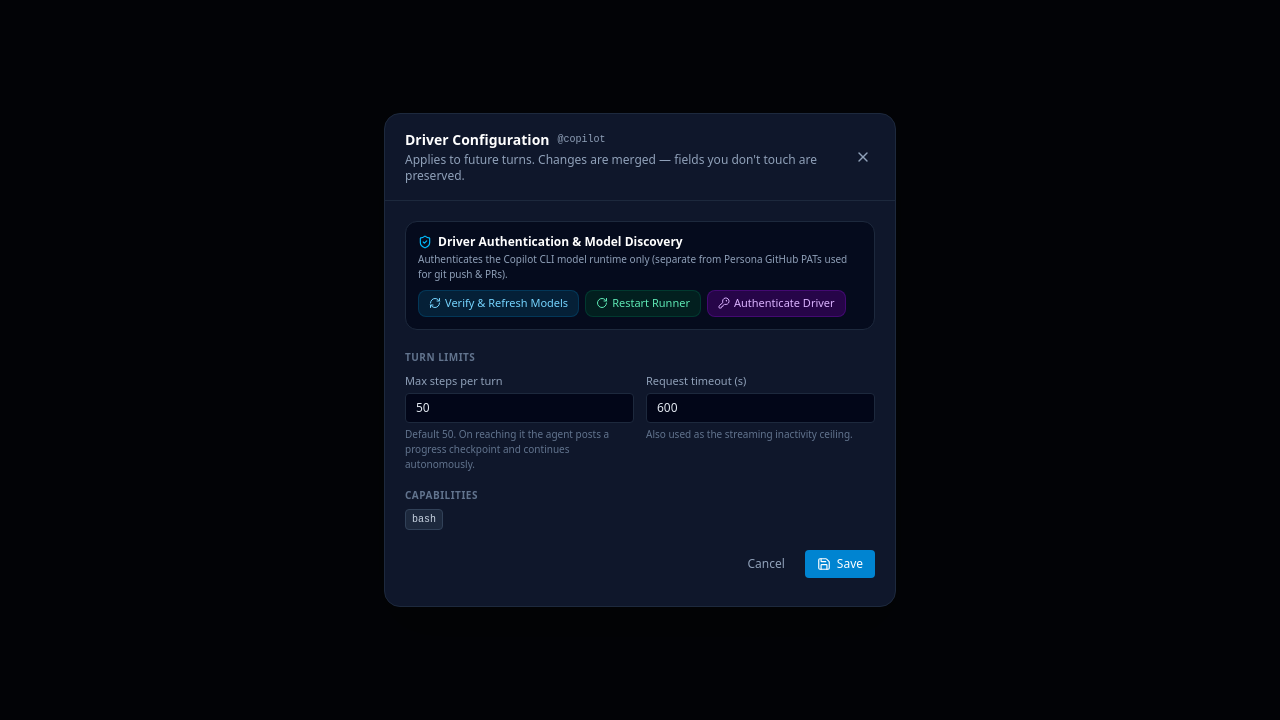
DriverConfigModal › renders one-time device code and allows completion without typing auth code for device flow
The image size is (1280, 720).
Step 1. Click the button "Authenticate Driver" → (776, 303), box top-left (707, 290), bottom-right (846, 316)
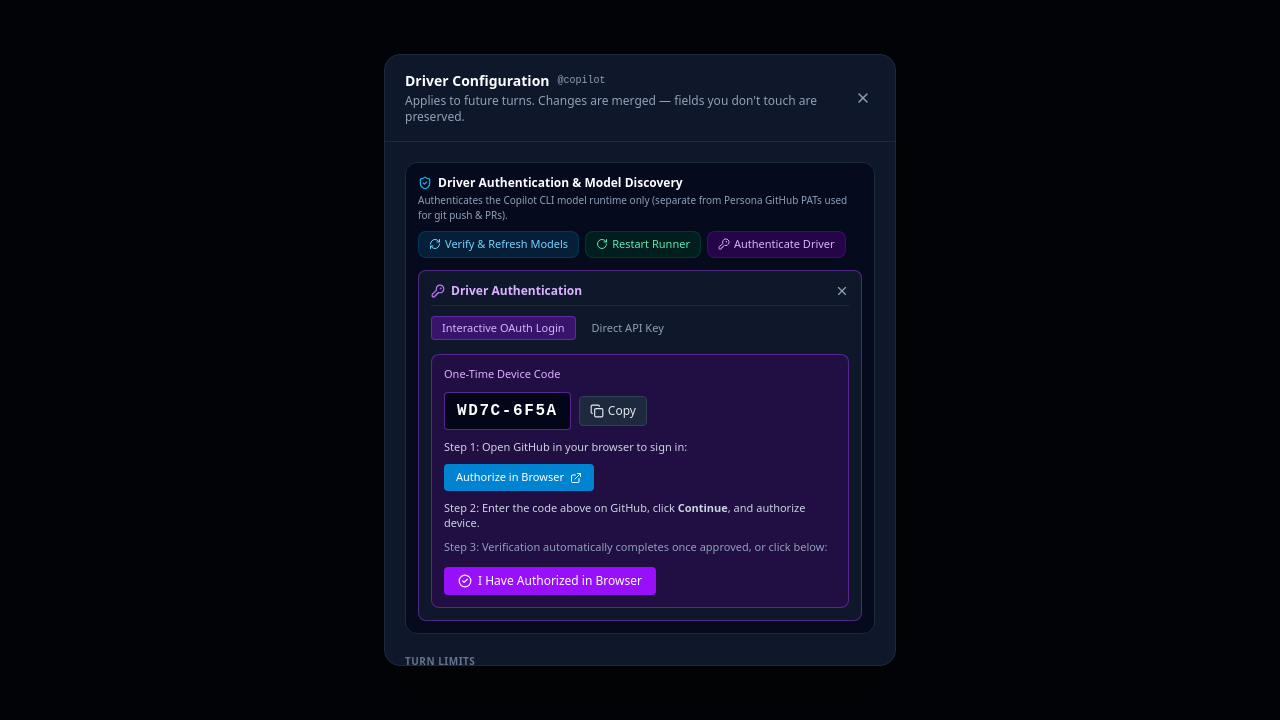
Now the text "One-Time Device Code" is shown, box top-left (444, 367), bottom-right (560, 382)
Now the text with test id "device-user-code" reads "WD7C-6F5A", box top-left (457, 402), bottom-right (558, 420)
Now the button "I Have Authorized in Browser" is shown
Step 2. Click the button "I Have Authorized in Browser" → (550, 581), box top-left (444, 567), bottom-right (656, 595)
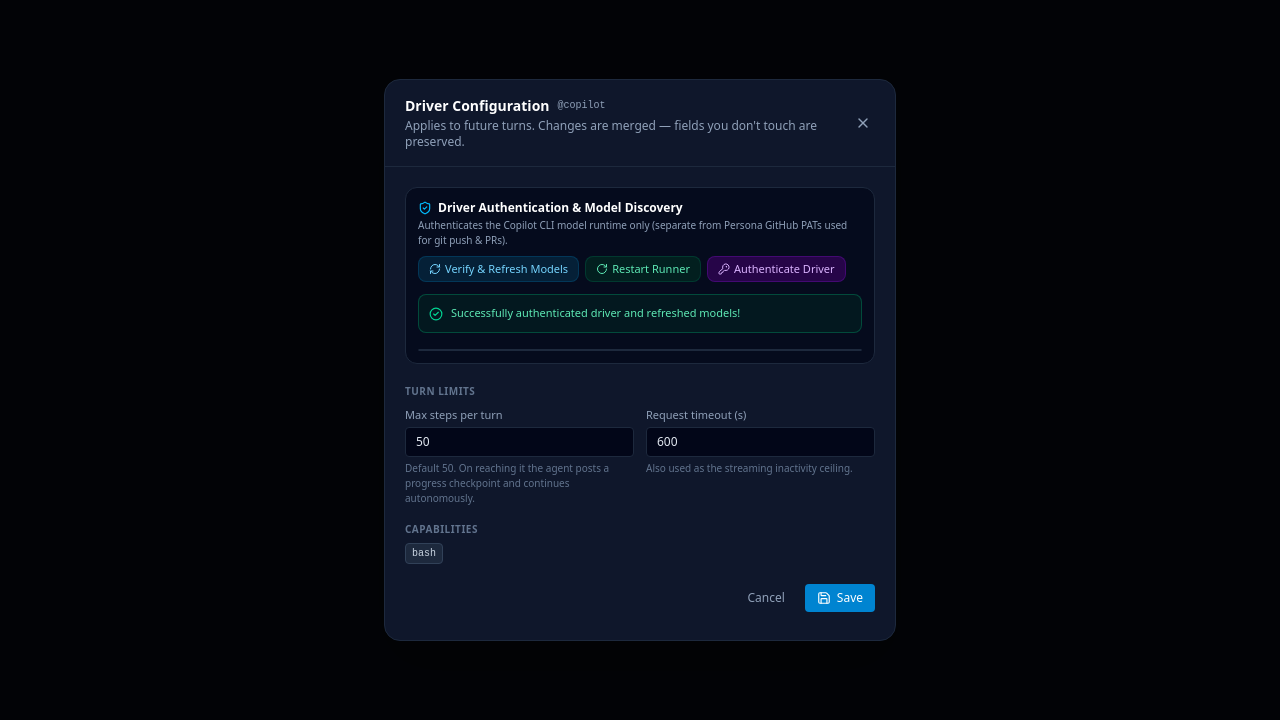
Now the text "Successfully authenticated driver and refreshed models!" is shown, box top-left (451, 305), bottom-right (740, 322)
